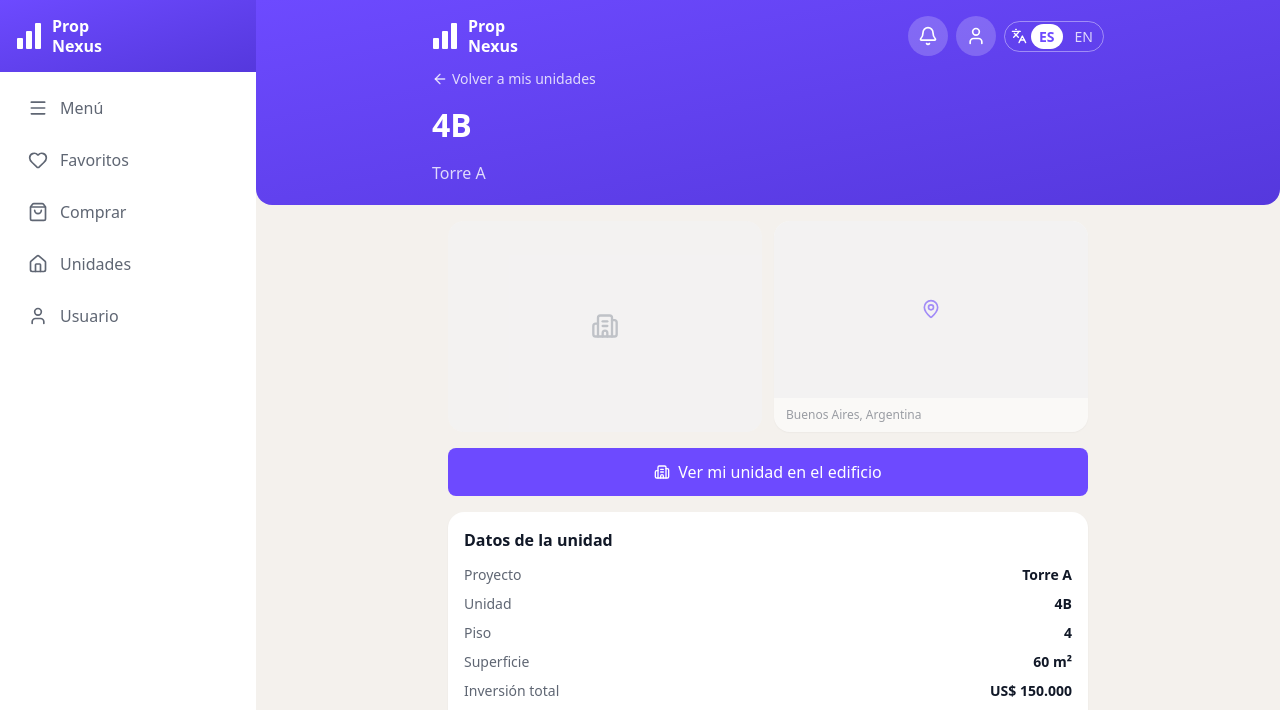
Test: /investor/unit/$unitId › esquema del edificio (INV-UNIT-BUILDING-001) › abre el esquema: la propia, la disponible y la ocupada; sin las de piso nulo
The width and height of the screenshot is (1280, 710).
Step 1. Click the button "Ver mi unidad en el edificio" → coordinates (768, 472), box [448,448,1088,496]
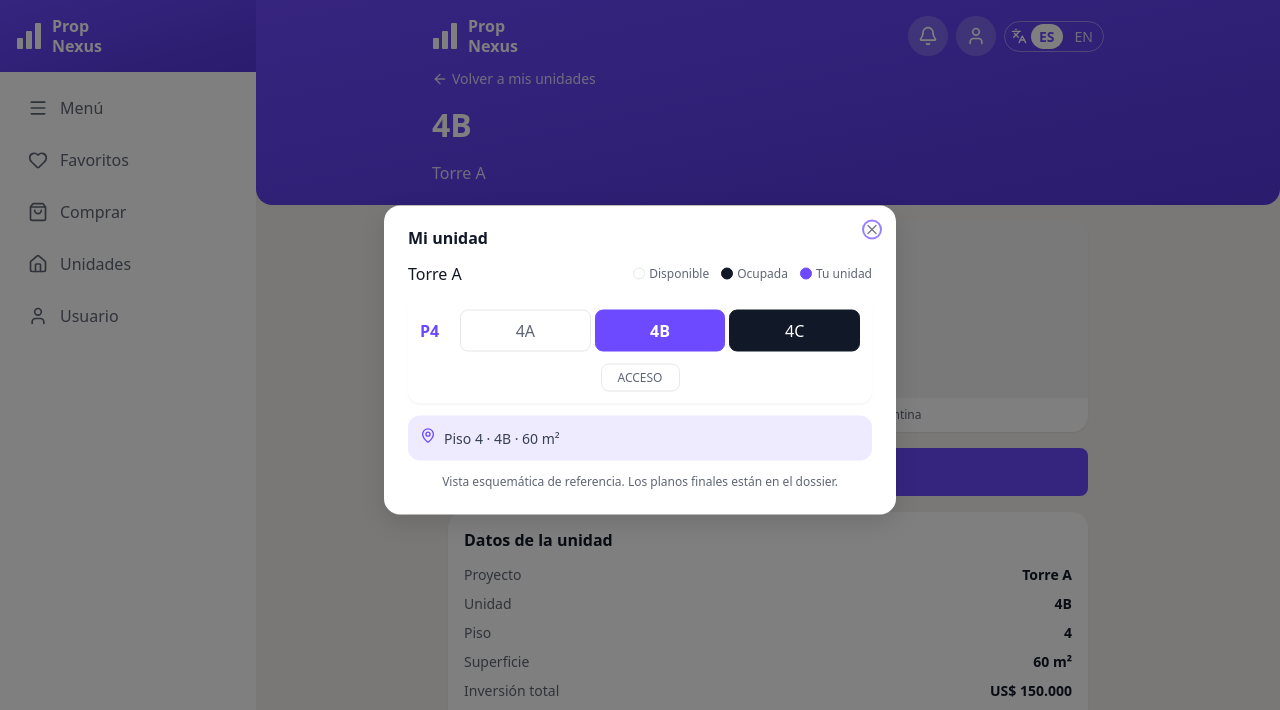
Now the text "4A" is shown, box [460,310,591,352]
Now the text "4C" is shown, box [729,310,860,352]
